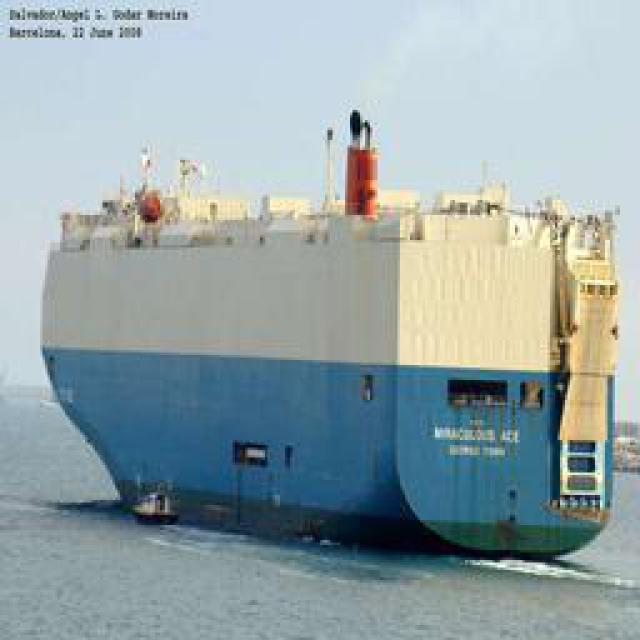Ship: (32, 151, 615, 556)
